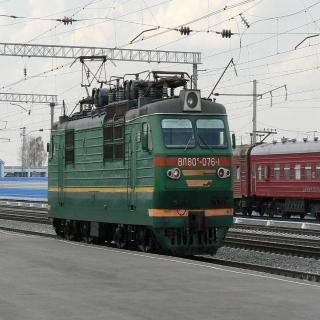poezd: (51, 82, 232, 252)
